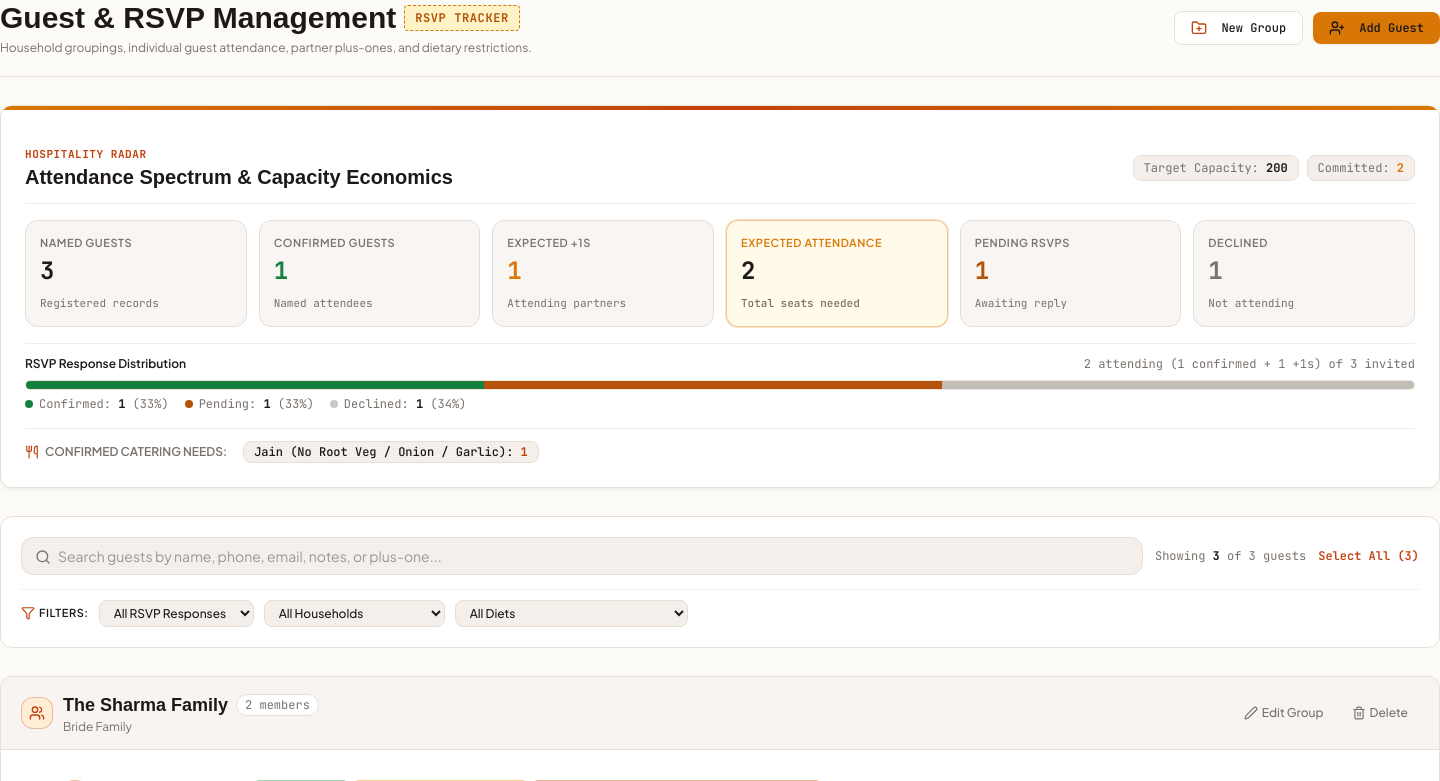
it: GuestsTab Component › opens add guest dialog when clicking Add Guest
Click the button "Add Guest".
click(1377, 28)  # box [1313,12,1439,44]
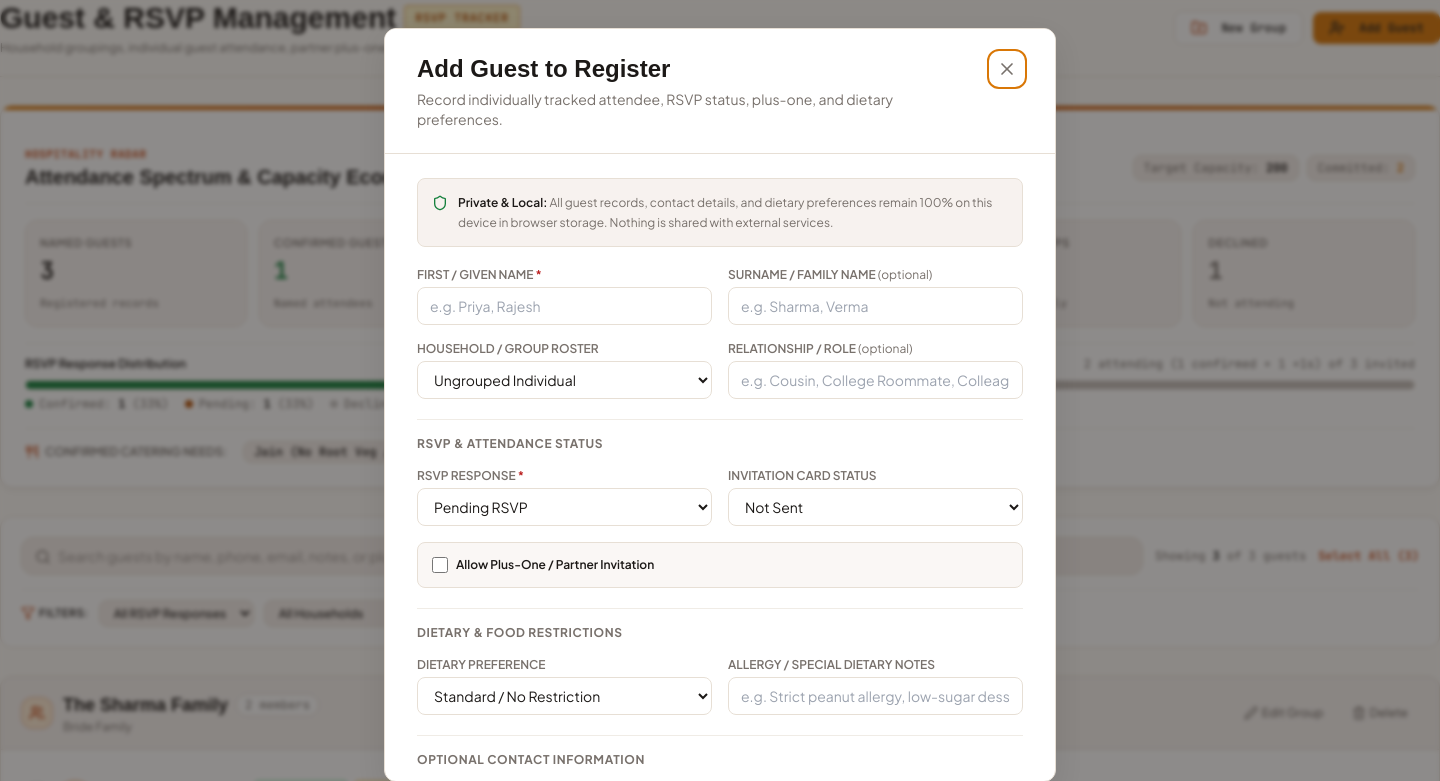
Expected: the heading "Add Guest to Register" is shown, [417,55,670,82]
Expected: the field labelled "First / Given Name *" is shown, [417,287,712,325]
